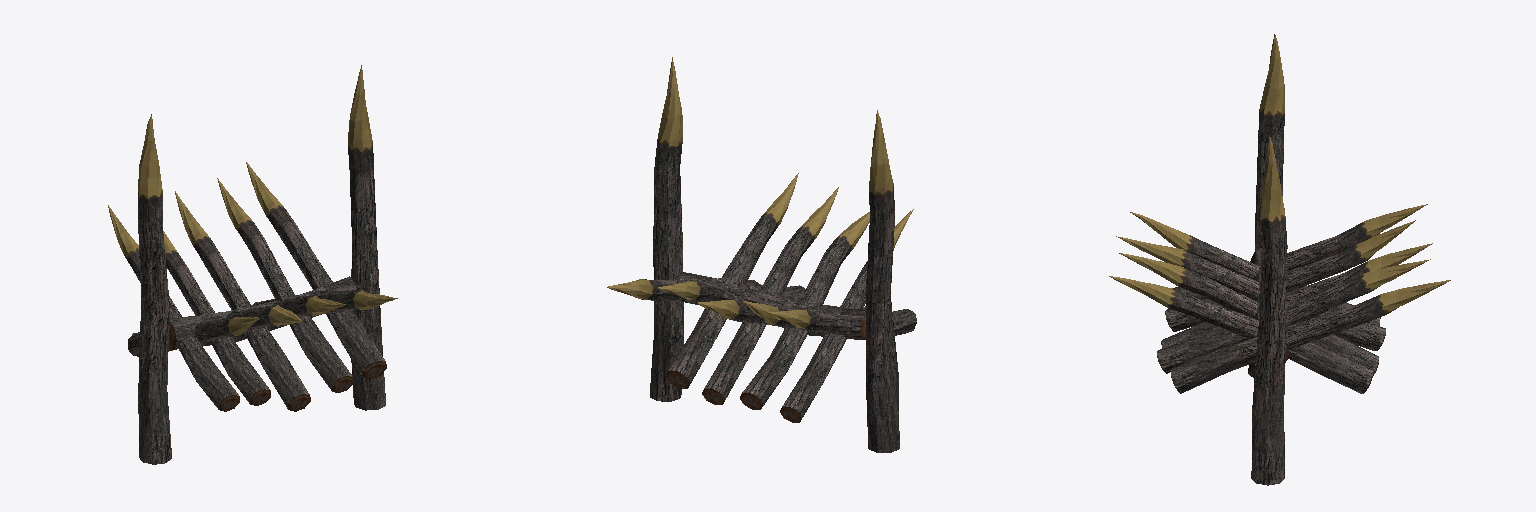
3 views of the same model, side by side, from view 1: azimuth 30°, elevation 25°; view 2: azimuth 150°, elevation 25°; view 3: azimuth 270°, elevation 25° (orthographic).
Parts seen in each view (by area): view 1: Circle.002_Circle.007, Circle.001, Circle.004_Circle.009, Circle.006_Circle.014, Circle.005_Circle.013, Circle.007_Circle.015, Circle.008_Circle.016, Circle.003_Circle.008, Circle.010_Circle.018, Circle.013_Circle.021, Circle.011_Circle.019, Circle.012_Circle.020; view 2: Circle.002_Circle.007, Circle.001, Circle.013_Circle.021, Circle.011_Circle.019, Circle.012_Circle.020, Circle.010_Circle.018, Circle.008_Circle.016, Circle.003_Circle.008, Circle.005_Circle.013, Circle.004_Circle.009, Circle.006_Circle.014, Circle.007_Circle.015; view 3: Circle.001, Circle.004_Circle.009, Circle.013_Circle.021, Circle.005_Circle.013, Circle.012_Circle.020, Circle.002_Circle.007, Circle.011_Circle.019, Circle.007_Circle.015, Circle.008_Circle.016, Circle.006_Circle.014, Circle.010_Circle.018.
Boxes of the visible parts, <box> form: Circle.002_Circle.007: <box>138,114,171,464</box>; Circle.001: <box>348,65,385,410</box>; Circle.004_Circle.009: <box>246,162,386,379</box>; Circle.006_Circle.014: <box>175,191,310,411</box>; Circle.005_Circle.013: <box>217,178,353,392</box>; Circle.007_Circle.015: <box>163,231,270,405</box>; Circle.008_Circle.016: <box>108,205,239,411</box>; Circle.003_Circle.008: <box>169,276,356,349</box>; Circle.010_Circle.018: <box>128,317,259,356</box>; Circle.013_Circle.021: <box>252,290,397,316</box>; Circle.011_Circle.019: <box>226,305,302,330</box>; Circle.012_Circle.020: <box>272,295,345,317</box>; Circle.002_Circle.007: <box>866,110,899,452</box>; Circle.001: <box>650,57,683,401</box>; Circle.013_Circle.021: <box>665,173,798,388</box>; Circle.011_Circle.019: <box>740,212,869,409</box>; Circle.012_Circle.020: <box>702,187,838,404</box>; Circle.010_Circle.018: <box>780,209,913,422</box>; Circle.008_Circle.016: <box>768,309,916,335</box>; Circle.003_Circle.008: <box>674,272,865,339</box>; Circle.005_Circle.013: <box>657,281,805,301</box>; Circle.004_Circle.009: <box>607,278,761,301</box>; Circle.006_Circle.014: <box>697,300,839,323</box>; Circle.007_Circle.015: <box>742,301,865,328</box>; Circle.001: <box>1251,135,1287,485</box>; Circle.004_Circle.009: <box>1170,280,1450,393</box>; Circle.013_Circle.021: <box>1109,276,1372,393</box>; Circle.005_Circle.013: <box>1157,259,1430,373</box>; Circle.012_Circle.020: <box>1119,253,1378,375</box>; Circle.002_Circle.007: <box>1248,34,1284,378</box>; Circle.011_Circle.019: <box>1116,236,1385,350</box>; Circle.007_Circle.015: <box>1165,220,1415,331</box>; Circle.008_Circle.016: <box>1168,204,1427,308</box>; Circle.006_Circle.014: <box>1161,243,1432,348</box>; Circle.010_Circle.018: <box>1130,212,1380,325</box>.
Size of the model in its own units: 6.72 by 8.97 by 8.2.
Materials: 1 (1 with a texture image).